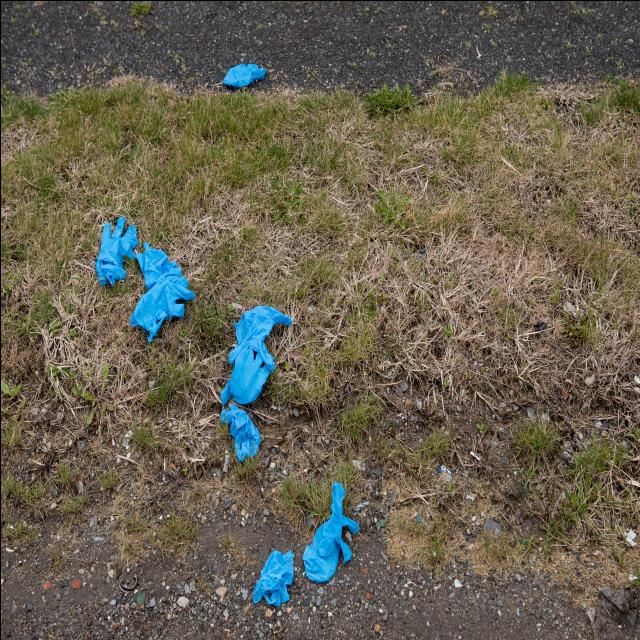b3: (64, 31, 392, 609), (204, 288, 294, 483), (86, 198, 196, 344)
